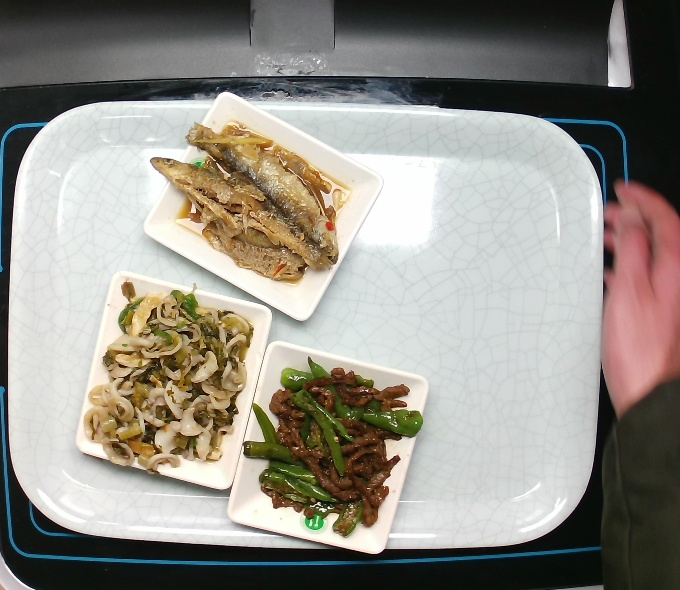wcq-QingJiaoNiuRou: (238, 360, 425, 539)
wcq-XiaoXiYu: (142, 115, 356, 290)
wcq-XueCaiYouYu: (83, 283, 255, 481)
